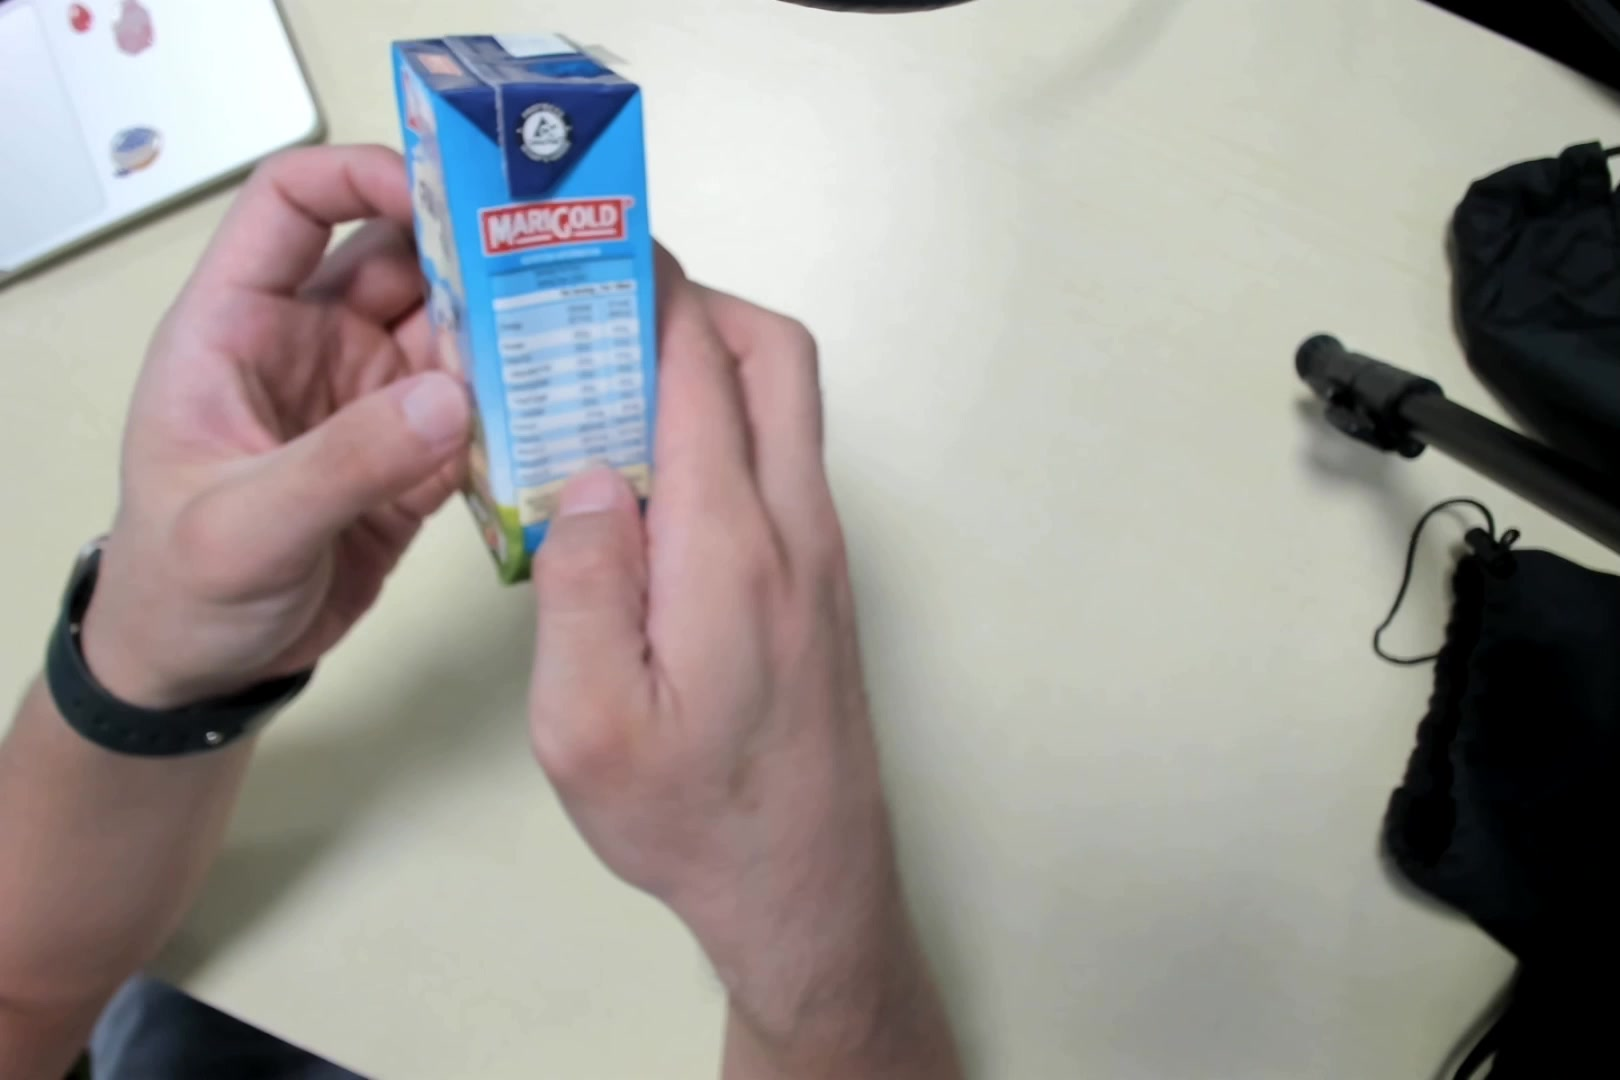Milk(Drink)_200-299g_Halal_NonHealthy: (394, 29, 657, 595)
